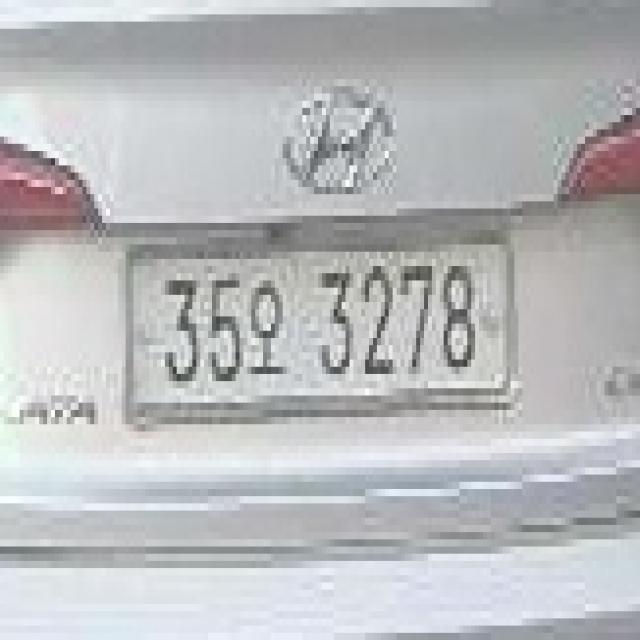2: (357, 259, 397, 381)
3: (318, 266, 357, 381), (165, 266, 200, 381)
5: (208, 274, 247, 388)
7: (400, 259, 436, 381)
8: (440, 259, 479, 381)
license_plate: (122, 237, 518, 410)
o: (244, 274, 286, 388)
